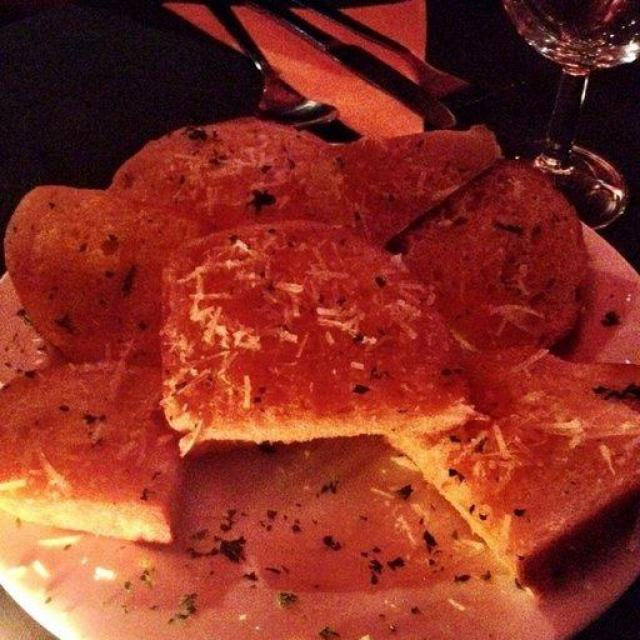food_waste: (157, 215, 482, 441), (396, 315, 640, 589), (1, 168, 197, 384), (1, 360, 182, 564)
